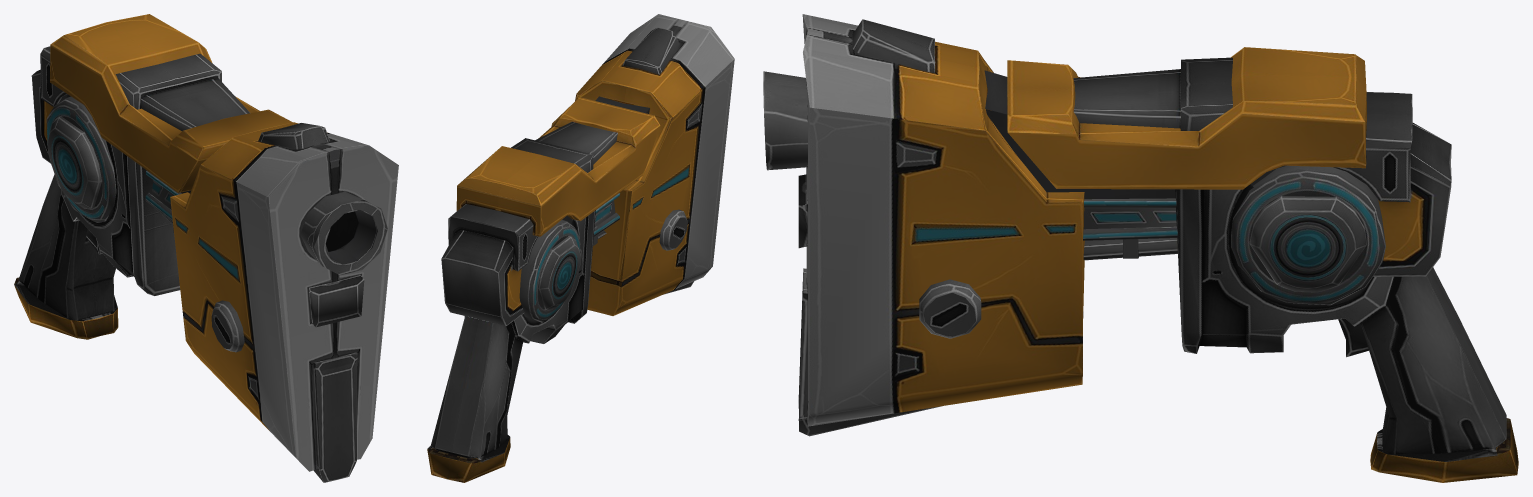
The model's file is Gun.glb.
3 views of the same model, side by side, from view 1: azimuth 30°, elevation 25°; view 2: azimuth 150°, elevation 25°; view 3: azimuth 270°, elevation 25° (orthographic). The views are drawn at different scales.
Parts seen in each view (by area): view 1: mesh_id38; view 2: mesh_id38; view 3: mesh_id38.
Boxes of the visible parts, x1=… form: mesh_id38: x1=14, y1=14, x2=398, y2=482; mesh_id38: x1=427, y1=14, x2=734, y2=482; mesh_id38: x1=763, y1=14, x2=1518, y2=482.
Bounding box in the file's own units: 0.192 × 0.512 × 0.7981.
1 material, 1 textured.
